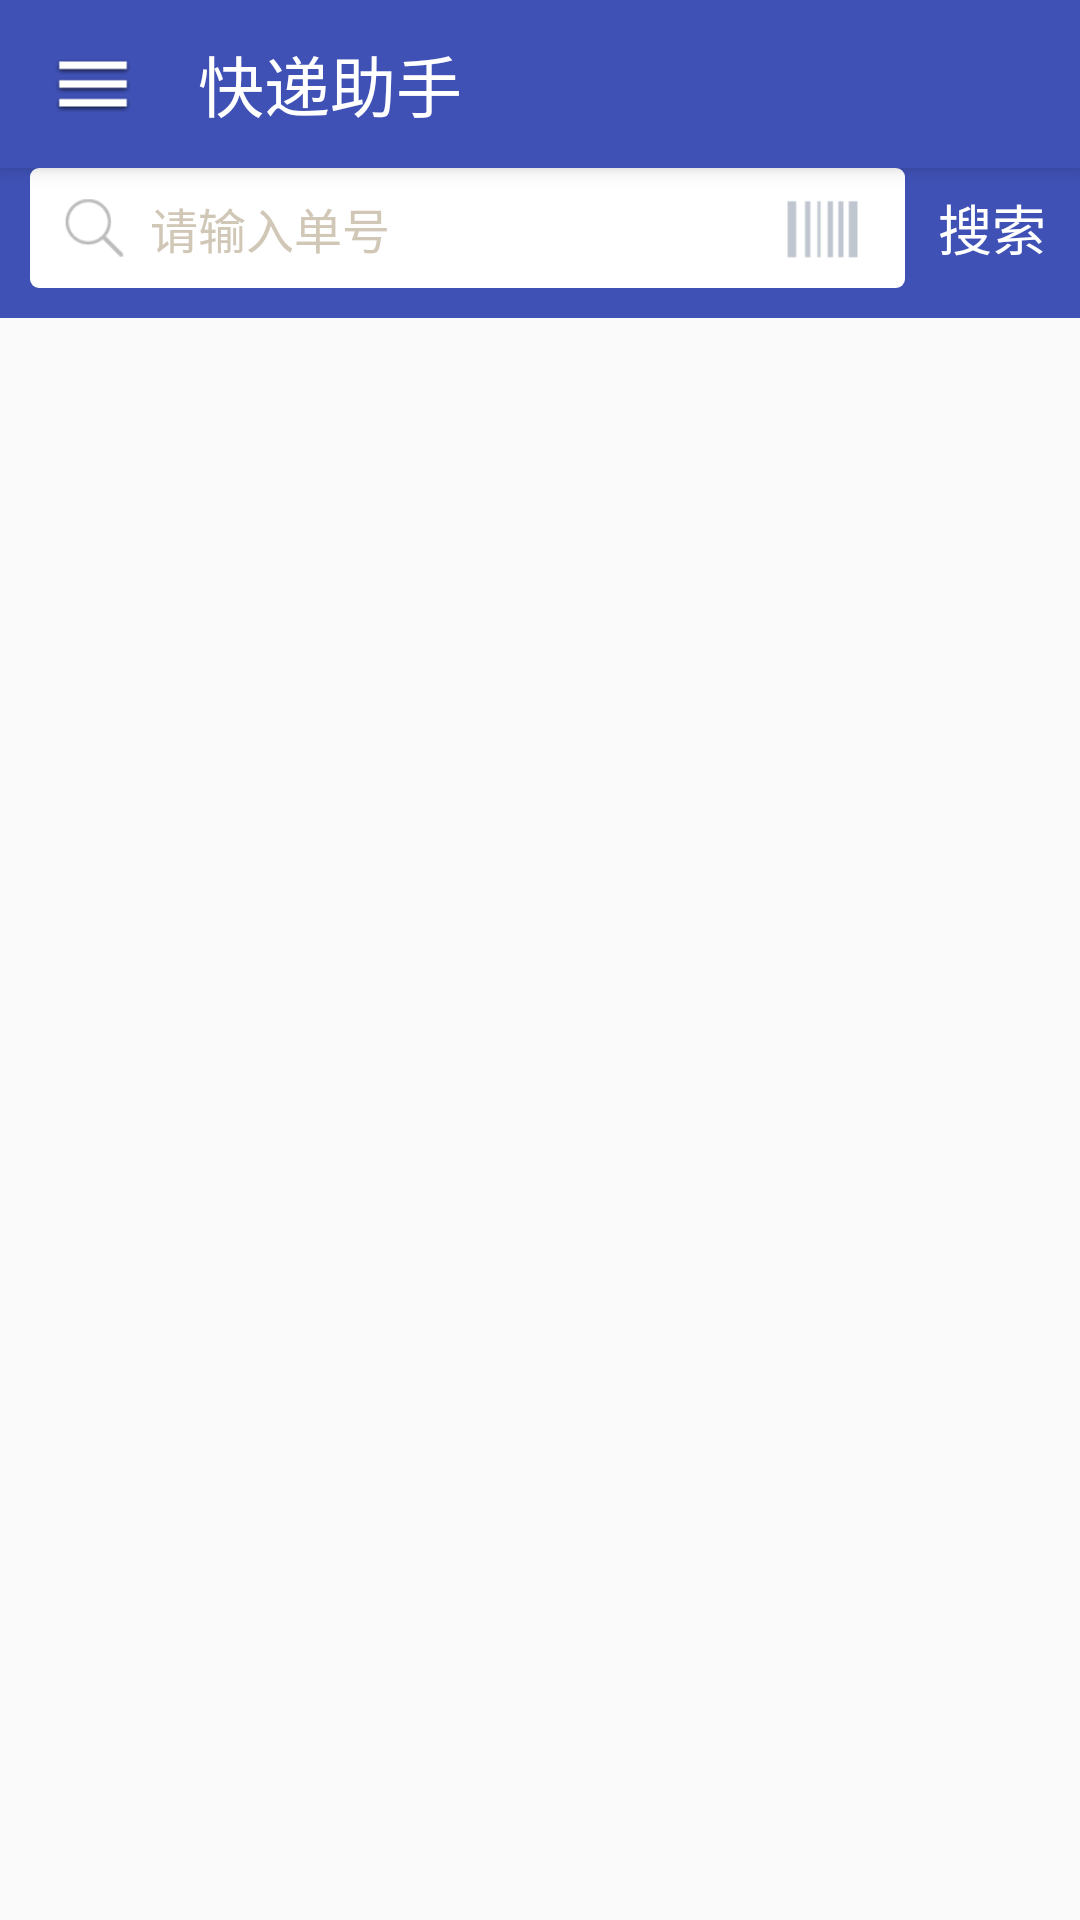

Icons on this 1080×1920 Android screen, each with the point to tap as (x,y):
barcode: (822,229)
find courier: (94,228)
